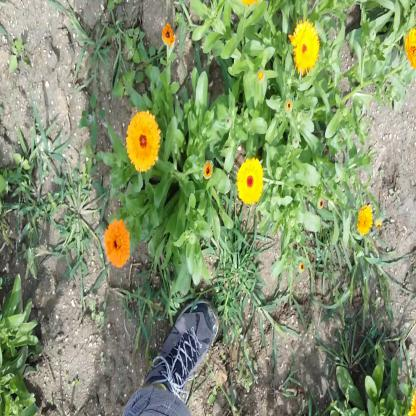marigold: (126, 110, 158, 168), (292, 22, 320, 73), (104, 218, 128, 268), (239, 157, 264, 202), (355, 206, 373, 234)
